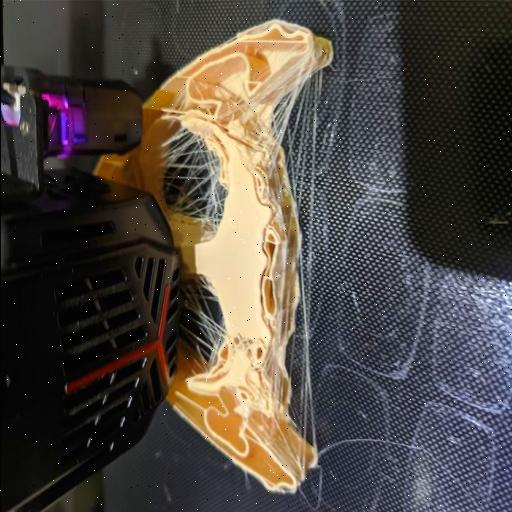stringing: (173, 140, 225, 231), (180, 284, 222, 362), (264, 98, 294, 164)
